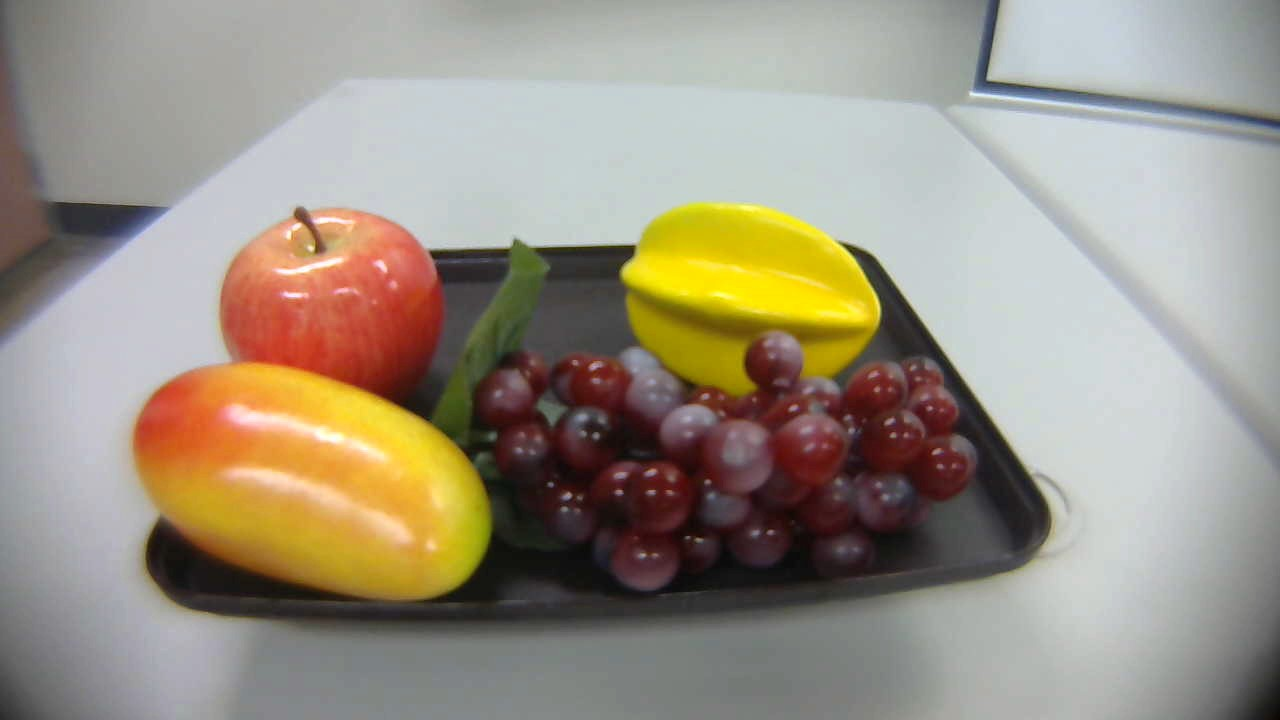grape: (413, 231, 992, 603)
red apple: (218, 198, 452, 431)
red mango: (122, 359, 507, 616)
star fruit: (612, 189, 892, 393)
